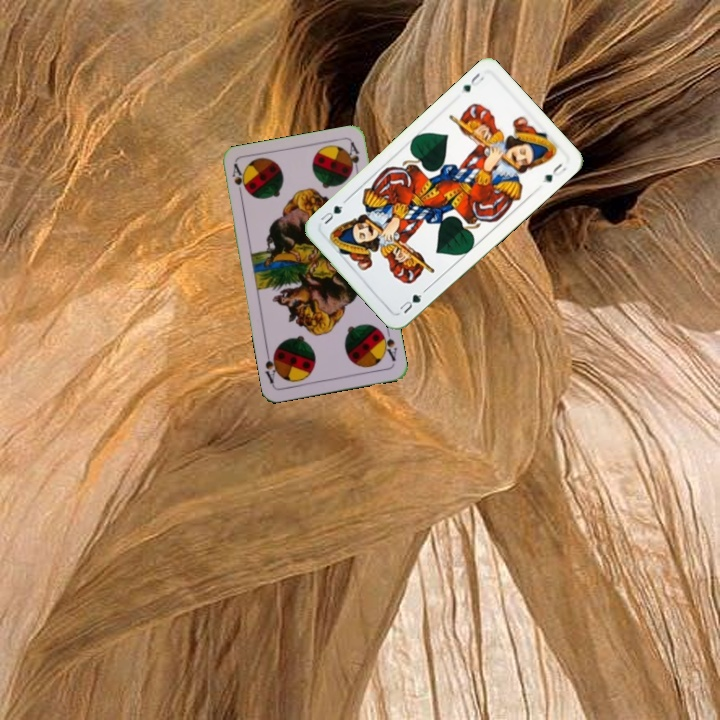GU: (395, 285, 429, 316), (458, 68, 486, 95)
SA: (376, 326, 399, 364), (228, 161, 248, 201)
